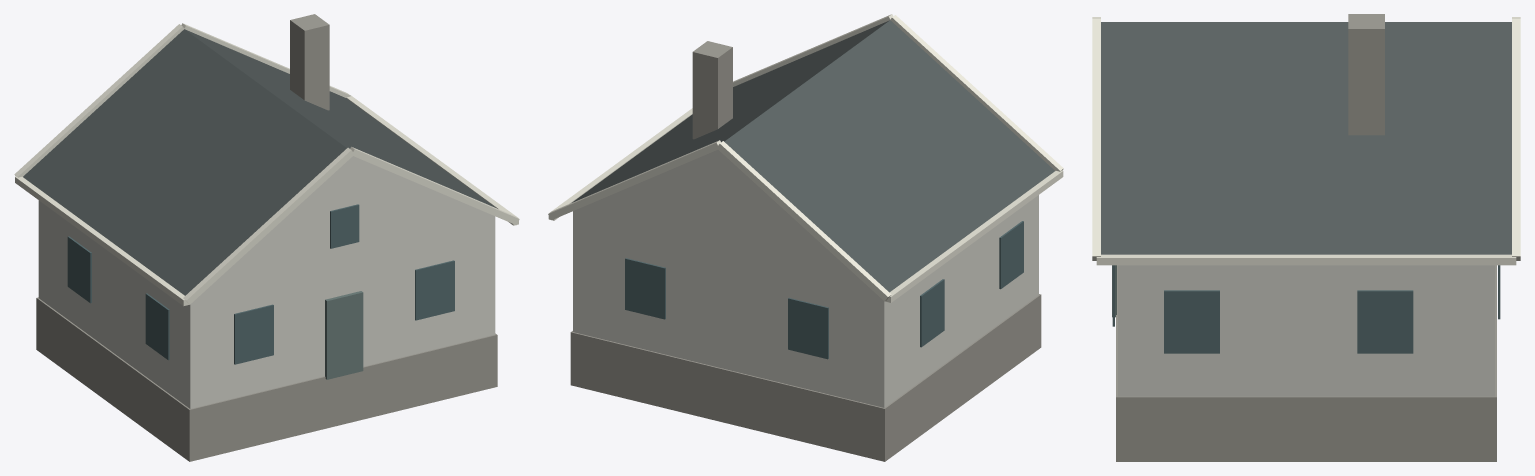
Rendered from cottage_far.glb.
3 views of the same model, side by side, from view 1: azimuth 30°, elevation 25°; view 2: azimuth 150°, elevation 25°; view 3: azimuth 270°, elevation 25° (orthographic). The views are drawn at different scales.
Parts seen in each view (by area): view 1: cottage_far; view 2: cottage_far; view 3: cottage_far.
Part boxes in pixels (left/top/right/bottom): cottage_far: left=14, top=14, right=519, bottom=461; cottage_far: left=548, top=14, right=1063, bottom=461; cottage_far: left=1092, top=14, right=1520, bottom=461.
Bounding box in the file's own units: 9.46 × 8.4 × 8.41.
